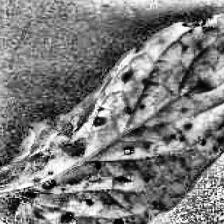disease: (0, 16, 224, 224)
